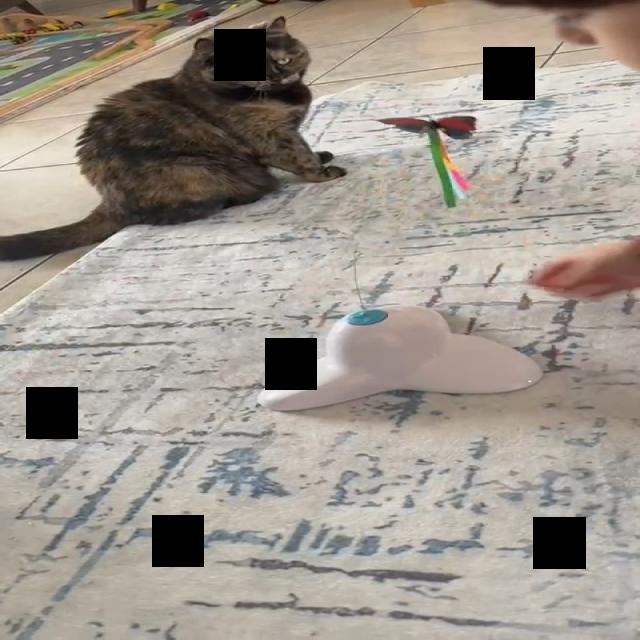authorized: (0, 15, 347, 261)
